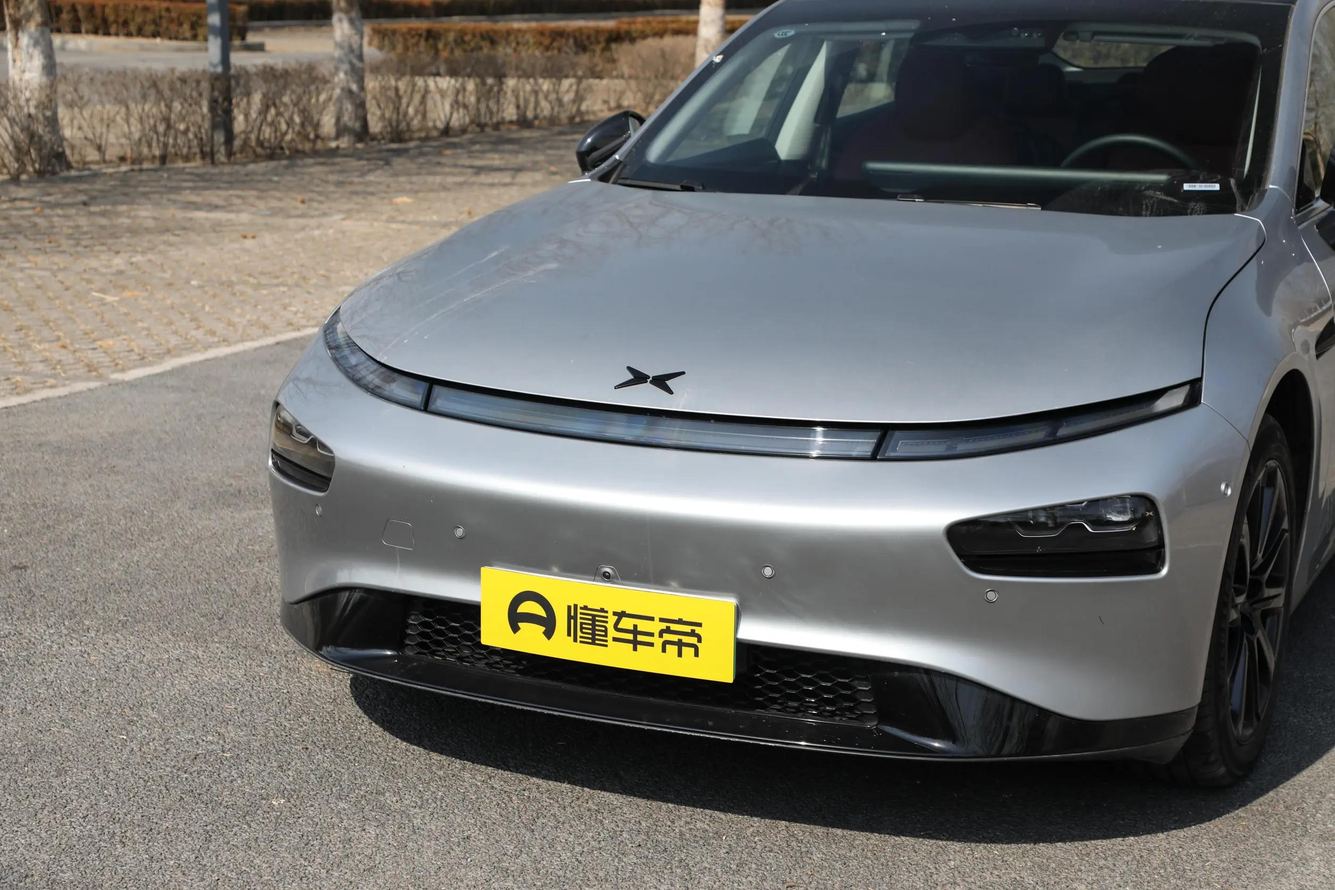XPeng Motors: (614, 366, 686, 395)
